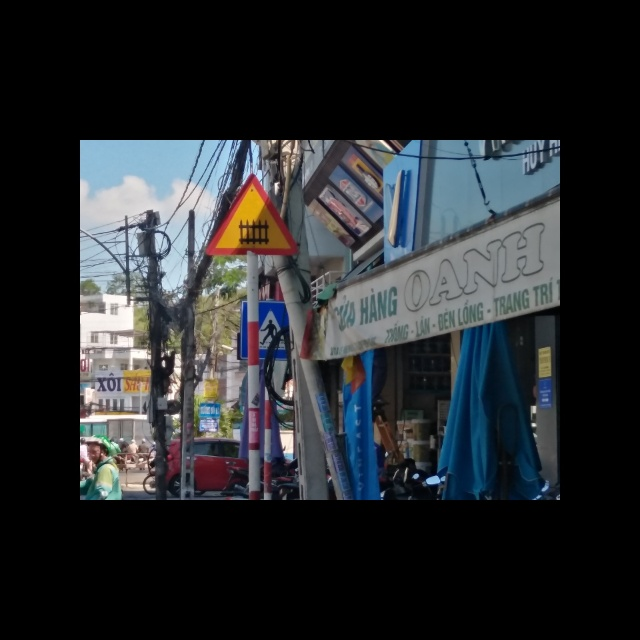Giao nhau với đường sắt có rào chắn: (203, 171, 300, 255)
